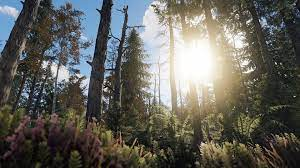tree: (236, 1, 287, 99), (1, 16, 46, 123), (159, 1, 189, 116), (204, 1, 233, 109), (94, 1, 111, 132), (47, 36, 71, 128), (114, 1, 131, 118), (276, 1, 296, 96), (35, 47, 57, 116), (21, 67, 43, 117), (13, 69, 38, 107)
